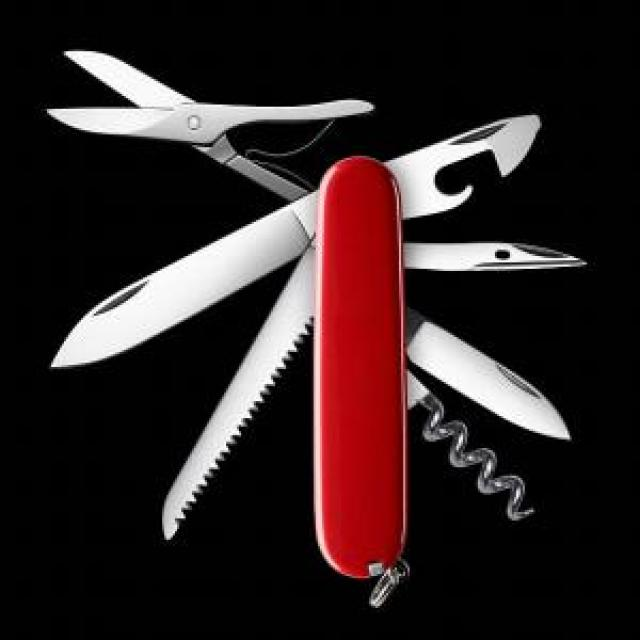knife: (49, 188, 323, 381), (397, 309, 580, 446), (401, 228, 591, 287)
